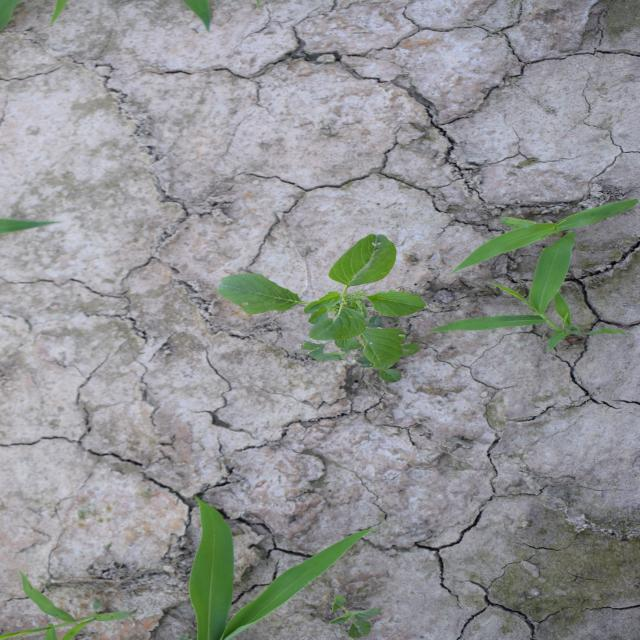PalmerAmaranth: (216, 232, 427, 382), (322, 593, 386, 638)
